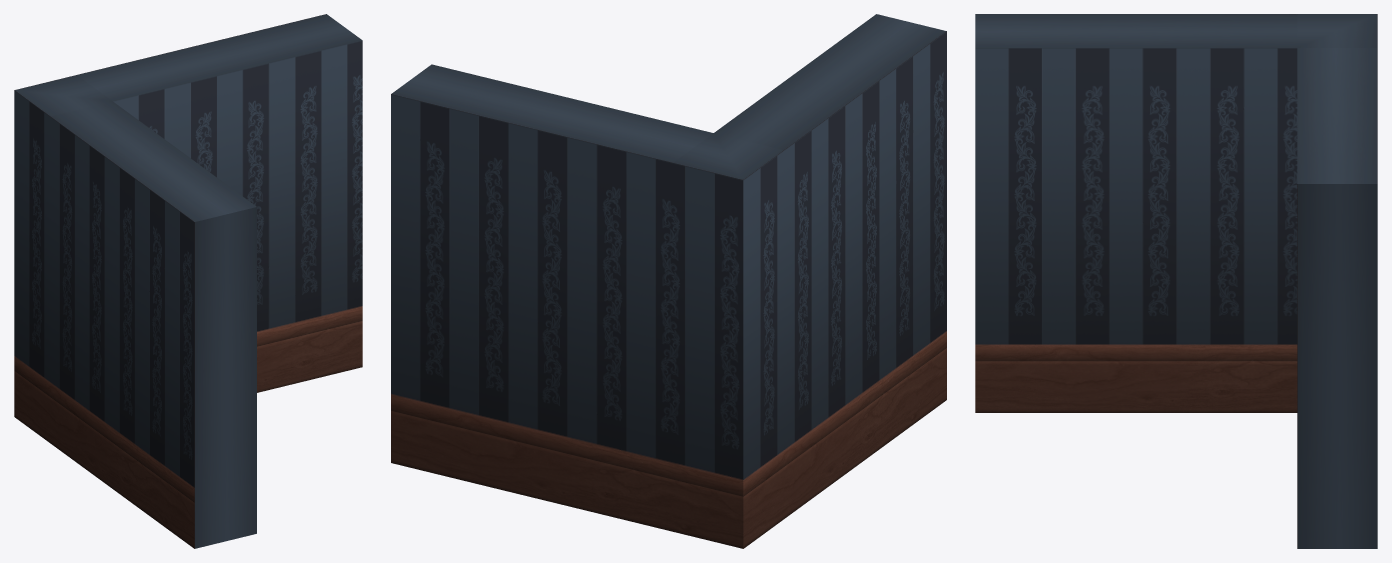
File: Wall_Corner.fbx
3 renders of one model, left to right at view 1: azimuth 30°, elevation 25°; view 2: azimuth 150°, elevation 25°; view 3: azimuth 270°, elevation 25°, orthographic. The views are drawn at different scales.
Visible parts, largest first — view 1: Wall_Corner; view 2: Wall_Corner; view 3: Wall_Corner.
Boxes of the visible parts, x1,y1,x2,y2 form: Wall_Corner: (14,14,362,548); Wall_Corner: (391,14,946,548); Wall_Corner: (975,14,1377,548).
Size of the model in its own units: 0.05 by 0.05 by 0.05.
